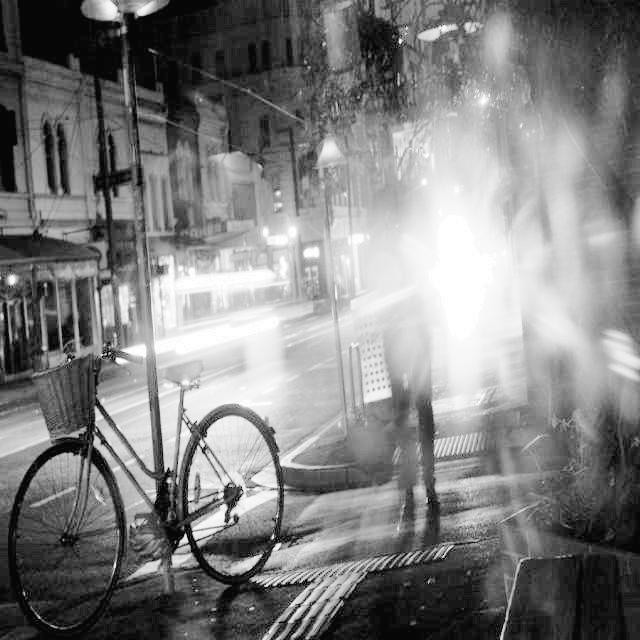Bicycle: (1, 321, 285, 622)
Person: (360, 160, 439, 516)
